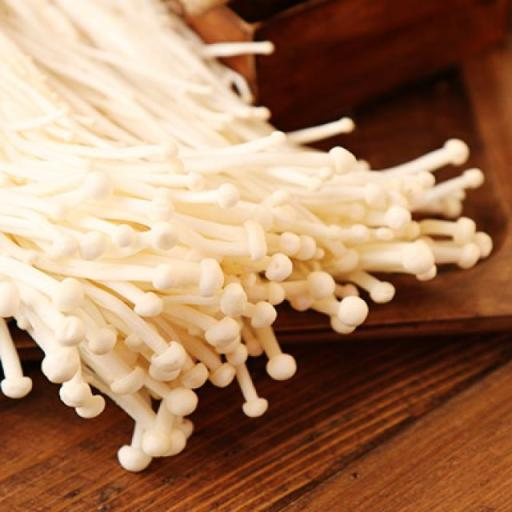Enoki Mushroom: (0, 1, 502, 478)
